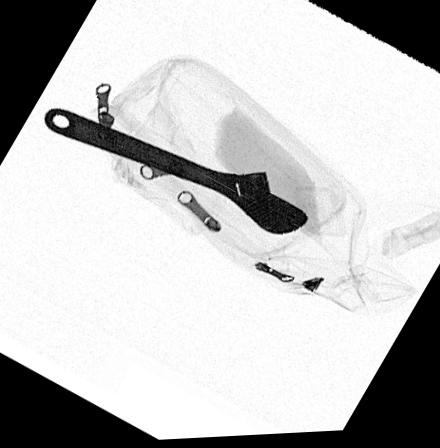Wrench: (45, 107, 308, 238)
